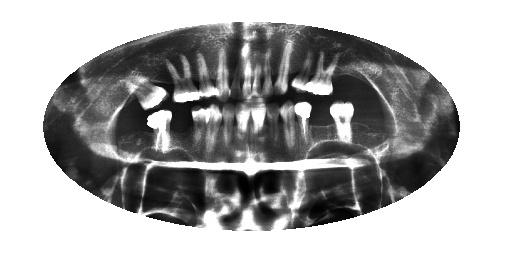i10decay: (221, 102, 237, 146)
i11healthy: (203, 99, 223, 155)
i12chipped: (187, 103, 212, 155)
i13loss: (168, 109, 195, 152)
i14healthy: (143, 107, 177, 156)
i15loss: (124, 122, 152, 155)
i2loss: (351, 106, 380, 145)
i3healthy: (325, 98, 361, 148)
i4loss: (308, 103, 335, 140)
i5healthy: (292, 98, 316, 145)
i6chipped: (277, 98, 299, 148)
i7decay: (265, 100, 283, 147)
i8healthy: (248, 104, 270, 147)
i9decay: (233, 100, 253, 148)
u10healthy: (212, 40, 234, 103)
u11chipped: (193, 45, 222, 99)
u12healthy: (164, 52, 203, 105)
u13loss: (148, 61, 177, 102)
u14healthy: (120, 68, 171, 112)
u15loss: (104, 90, 143, 122)
u2loss: (328, 52, 355, 95)
u3healthy: (307, 45, 342, 100)
u4decay: (291, 40, 315, 91)
u5decay: (273, 29, 293, 95)
u6healthy: (261, 38, 275, 99)
u7healthy: (251, 40, 263, 101)
u8healthy: (238, 47, 255, 101)
u9decay: (229, 47, 247, 103)
